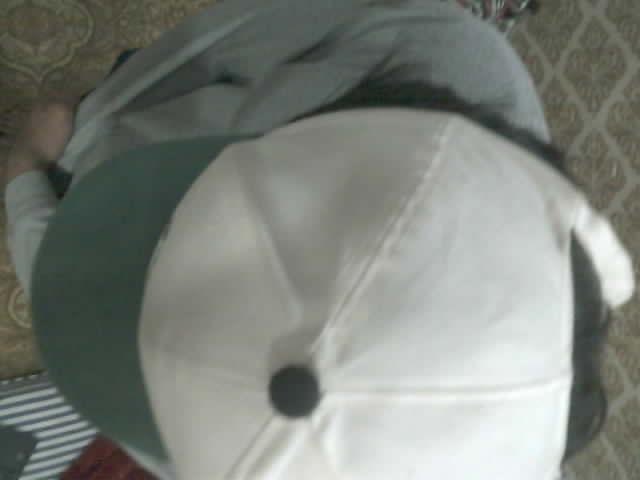cap: (29, 106, 636, 479)
